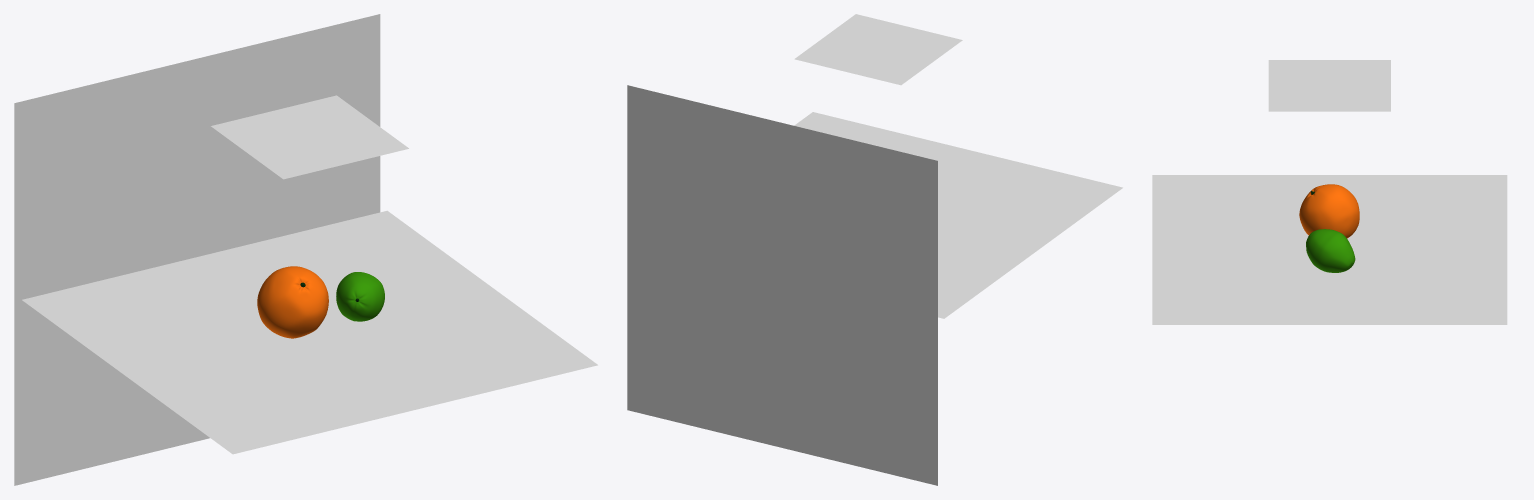
The model's file is Orange n lemon 1.fbx.
The picture shows the model from 3 angles, left to right: view 1: azimuth 30°, elevation 25°; view 2: azimuth 150°, elevation 25°; view 3: azimuth 270°, elevation 25°; orthographic projection. The views are drawn at different scales.
Visible parts, largest first — view 1: Plane.001, Plane, Plane.002, Sphere, Sphere.006; view 2: Plane.001, Plane, Plane.002; view 3: Plane, Plane.002, Sphere, Sphere.006.
Boxes of the visible parts, box(x1,y1,x2,y2) form: Plane.001: box(14, 14, 380, 485); Plane: box(22, 210, 597, 454); Plane.002: box(211, 95, 408, 179); Sphere: box(257, 266, 328, 338); Sphere.006: box(336, 272, 384, 321); Plane.001: box(627, 85, 937, 485); Plane: box(794, 112, 1122, 318); Plane.002: box(794, 14, 962, 85); Plane: box(1152, 175, 1507, 324); Plane.002: box(1268, 60, 1390, 111); Sphere: box(1299, 184, 1359, 238); Sphere.006: box(1306, 229, 1355, 272).
Size of the model in its own units: 397 by 401 by 411.
